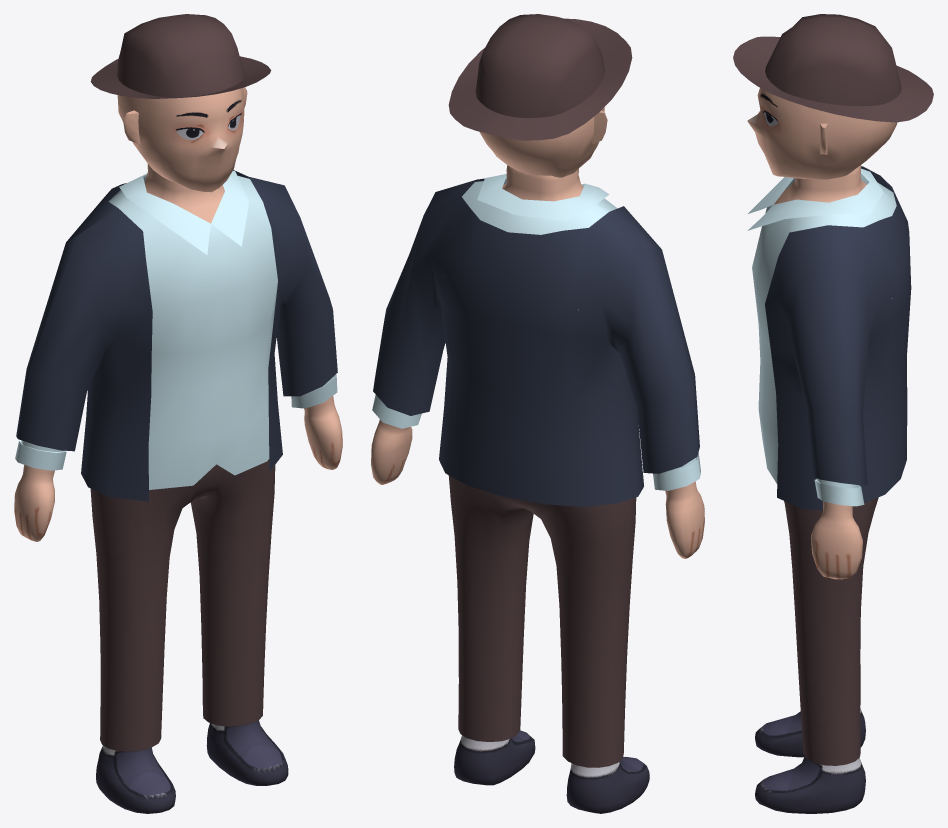
The model's file is boss.fbx.
The picture shows the model from 3 angles, left to right: view 1: azimuth 30°, elevation 25°; view 2: azimuth 150°, elevation 25°; view 3: azimuth 270°, elevation 25°; orthographic projection.
Parts seen in each view (by area): view 1: Roundcube.005, Roundcube.002, Roundcube.003, Roundcube.001, Roundcube.004, Roundcube; view 2: Roundcube.005, Roundcube.003, Roundcube.004, Roundcube.001, Roundcube.002, Roundcube; view 3: Roundcube.005, Roundcube.003, Roundcube.004, Roundcube.001, Roundcube.002, Roundcube.
Part boxes in pixels (box(x1,y1,x2,y2)): Roundcube.005: box(16, 170, 337, 501); Roundcube.002: box(15, 170, 337, 489); Roundcube.003: box(90, 459, 275, 751); Roundcube.001: box(14, 163, 342, 813); Roundcube.004: box(90, 14, 271, 98); Roundcube: box(117, 87, 247, 192); Roundcube.005: box(373, 178, 699, 506); Roundcube.003: box(448, 475, 636, 767); Roundcube.004: box(448, 14, 632, 140); Roundcube.001: box(371, 165, 704, 813); Roundcube.002: box(372, 174, 700, 490); Roundcube: box(479, 107, 607, 177); Roundcube.005: box(765, 166, 911, 510); Roundcube.003: box(784, 497, 878, 765); Roundcube.004: box(733, 14, 933, 122); Roundcube.001: box(755, 165, 866, 813); Roundcube.002: box(747, 168, 896, 506); Roundcube: box(747, 88, 897, 179).
Bounding box in the file's own units: 249 × 561 × 136.
5 materials, 1 textured.
